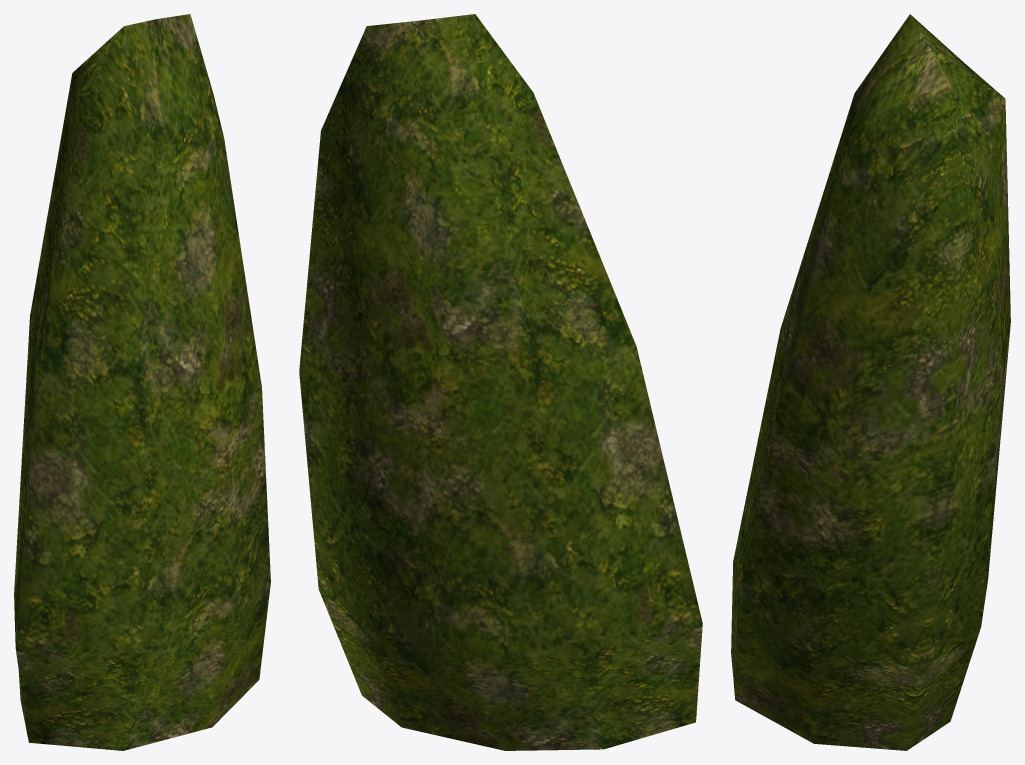
Rendered from OVERHILL_A_01_ROCK200.fbx.
The picture shows the model from 3 angles, left to right: view 1: azimuth 30°, elevation 25°; view 2: azimuth 150°, elevation 25°; view 3: azimuth 270°, elevation 25°; orthographic projection. The views are drawn at different scales.
Parts seen in each view (by area): view 1: OVERHILL_A_01_ROCK200; view 2: OVERHILL_A_01_ROCK200; view 3: OVERHILL_A_01_ROCK200.
Boxes of the visible parts, box(x1,y1,x2,y2) form: OVERHILL_A_01_ROCK200: box(14, 14, 270, 750); OVERHILL_A_01_ROCK200: box(299, 14, 702, 750); OVERHILL_A_01_ROCK200: box(731, 14, 1010, 750).
Bounding box in the file's own units: 17292 × 35696 × 13256.
1 material, 1 textured.
